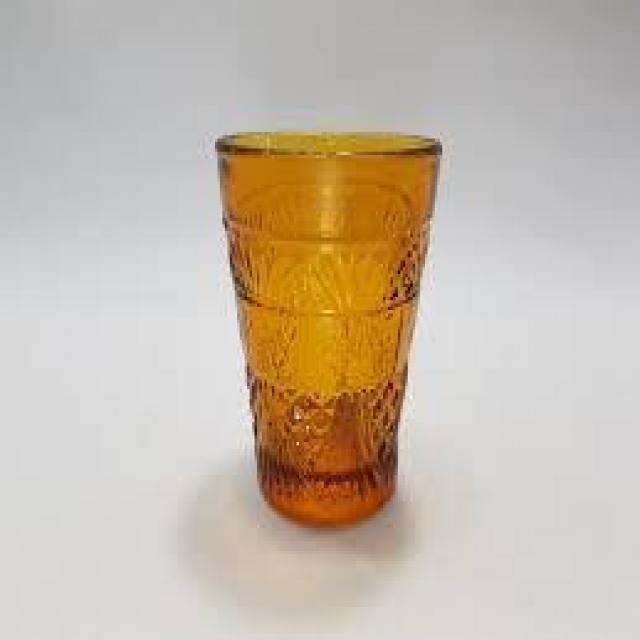non-organic waste: (215, 134, 445, 526)
